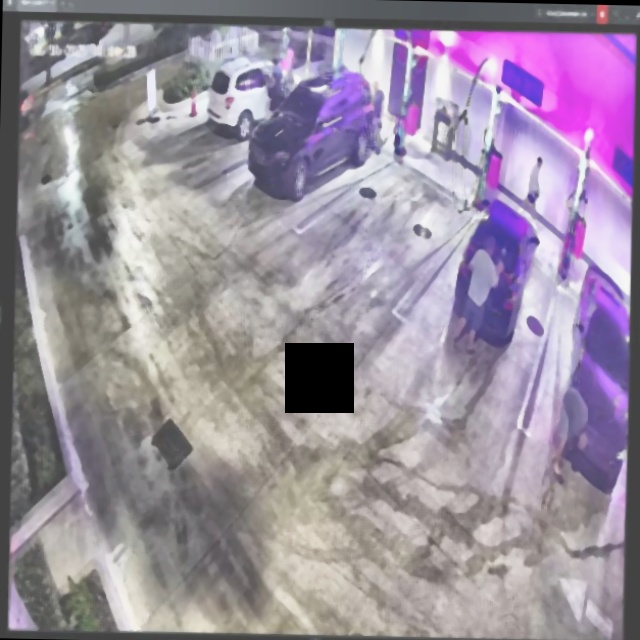Car: (250, 66, 375, 200), (456, 195, 540, 346)
